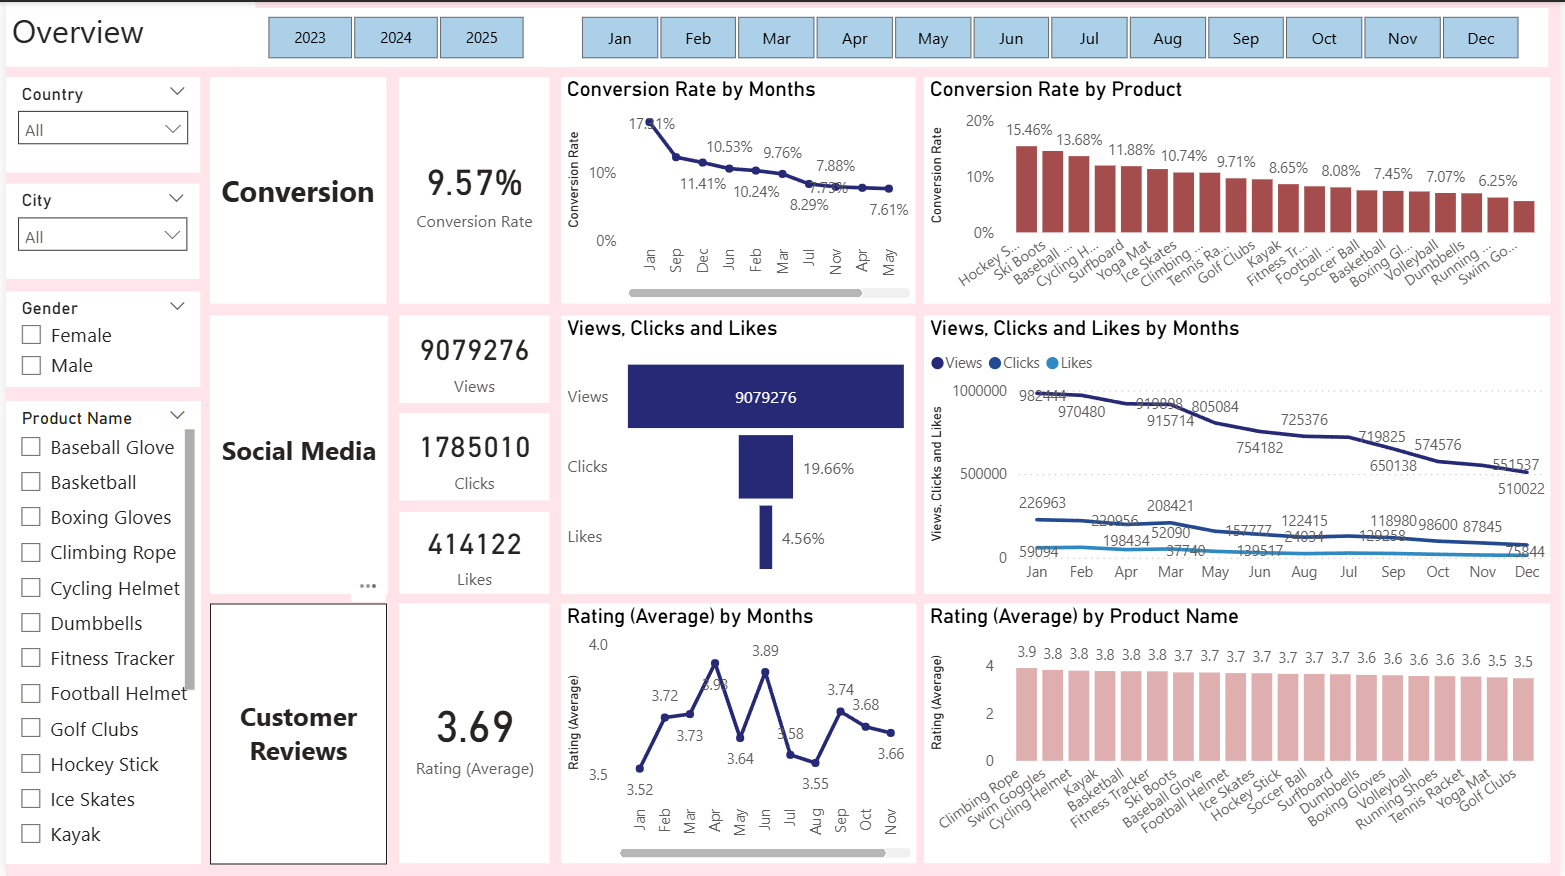

This screenshot's page, from the dashboard's own definition file:
{"tool":"powerbi","page":{"name":"Overview","canvas":[1280,720],"ordinal":0},"visuals":[{"type":"textbox","box":[0,0,205,53.3],"z":0},{"type":"textbox","box":[168.3,61.7,145,186.7],"z":1000},{"type":"textbox","box":[168.5,257.7,146.6,229.5],"z":2000},{"type":"textbox","box":[168.6,495.7,145.7,214.3],"z":3000},{"type":"card","fields":{"Values":["_measures.Conversion Rate"]},"box":[324.1,61.9,123.9,186.8],"z":4000},{"type":"card","fields":{"Values":["_measures.Views"]},"box":[324.2,257.7,123.8,71.9],"z":5000},{"type":"card","fields":{"Values":["_measures.Clicks"]},"box":[324.2,338.8,123.8,71.9],"z":6000},{"type":"card","fields":{"Values":["_measures.Likes"]},"box":[324.2,419.8,123.8,67.4],"z":7000},{"type":"card","fields":{"Values":["_measures.Rating (Average)"]},"box":[324.3,495.7,124.3,214.3],"z":8000},{"type":"funnel","fields":{"Y":["_measures.Views","_measures.Clicks","_measures.Likes"]},"box":[457.3,258.1,292.1,229.2],"z":9000},{"type":"lineChart","title":"Rating (Average) by Months","fields":{"Category":["Calendar.MonthNameShort"],"Y":["_measures.Rating (Average)"]},"box":[457.1,495.7,292.9,214.3],"z":10000},{"type":"columnChart","title":"Conversion Rate by Product","fields":{"Y":["_measures.Conversion Rate"],"Category":["gold dim_products.product_name"]},"box":[756.7,61.9,516.3,186.7],"z":11000},{"type":"lineChart","title":"Views, Clicks and Likes by Months","fields":{"Y":["_measures.Views","_measures.Clicks","_measures.Likes"],"Category":["Calendar.MonthNameShort"]},"box":[756.6,258.1,516.1,229.2],"z":12000},{"type":"columnChart","title":"Rating (Average) by Product Name","fields":{"Y":["_measures.Rating (Average)"],"Category":["gold dim_products.product_name"]},"box":[755.7,495.7,515.7,214.3],"z":13000},{"type":"slicer","fields":{"Values":["Calendar.MonthNameShort"]},"box":[448.6,0,821.8,53.1],"z":14000},{"type":"slicer","fields":{"Values":["Calendar.Year"]},"box":[190.3,0,259.5,53.1],"z":15000},{"type":"slicer","fields":{"Values":["gold dim_products.product_name"]},"box":[0,328.6,160,381.4],"z":17000},{"type":"lineChart","title":"Conversion Rate by Months","fields":{"Y":["_measures.Conversion Rate"],"Category":["Calendar.MonthNameShort"]},"box":[457.1,61.9,292.3,186.7],"z":18000},{"type":"slicer","fields":{"Values":["gold dim_customers.city"]},"box":[0,150,159.3,78.3],"z":19000},{"type":"slicer","fields":{"Values":["gold dim_customers.country"]},"box":[0,61.7,160,78.3],"z":20000},{"type":"slicer","fields":{"Values":["gold dim_customers.gender"]},"box":[0,239,160,78.6],"z":21000}]}

Visuals, with their boxes in screenshot pixels (x1, y1, x2, y2), scaled from the page's 1280x720 canvas onto the 1565x876 screenshot:
textbox: left=0, top=0, right=251, bottom=65
textbox: left=206, top=75, right=383, bottom=302
textbox: left=206, top=314, right=385, bottom=593
textbox: left=206, top=603, right=384, bottom=864
card - _measures.Conversion Rate: left=396, top=75, right=548, bottom=303
card - _measures.Views: left=396, top=314, right=548, bottom=401
card - _measures.Clicks: left=396, top=412, right=548, bottom=500
card - _measures.Likes: left=396, top=511, right=548, bottom=593
card - _measures.Rating (Average): left=397, top=603, right=548, bottom=864
funnel - _measures.Views x _measures.Clicks: left=559, top=314, right=916, bottom=593
"Rating (Average) by Months" lineChart: left=559, top=603, right=917, bottom=864
"Conversion Rate by Product" columnChart: left=925, top=75, right=1556, bottom=302
"Views, Clicks and Likes by Months" lineChart: left=925, top=314, right=1556, bottom=593
"Rating (Average) by Product Name" columnChart: left=924, top=603, right=1554, bottom=864
slicer - Calendar.MonthNameShort: left=548, top=0, right=1553, bottom=65
slicer - Calendar.Year: left=233, top=0, right=550, bottom=65
slicer - gold dim_products.product_name: left=0, top=400, right=196, bottom=864
"Conversion Rate by Months" lineChart: left=559, top=75, right=916, bottom=302
slicer - gold dim_customers.city: left=0, top=182, right=195, bottom=278
slicer - gold dim_customers.country: left=0, top=75, right=196, bottom=170
slicer - gold dim_customers.gender: left=0, top=291, right=196, bottom=386
